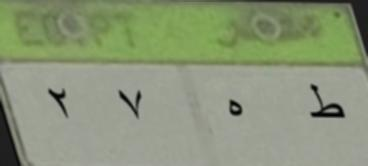2: (43, 80, 74, 126)
7: (114, 83, 148, 129)
Taa: (302, 77, 348, 127)
haa: (222, 92, 250, 124)
